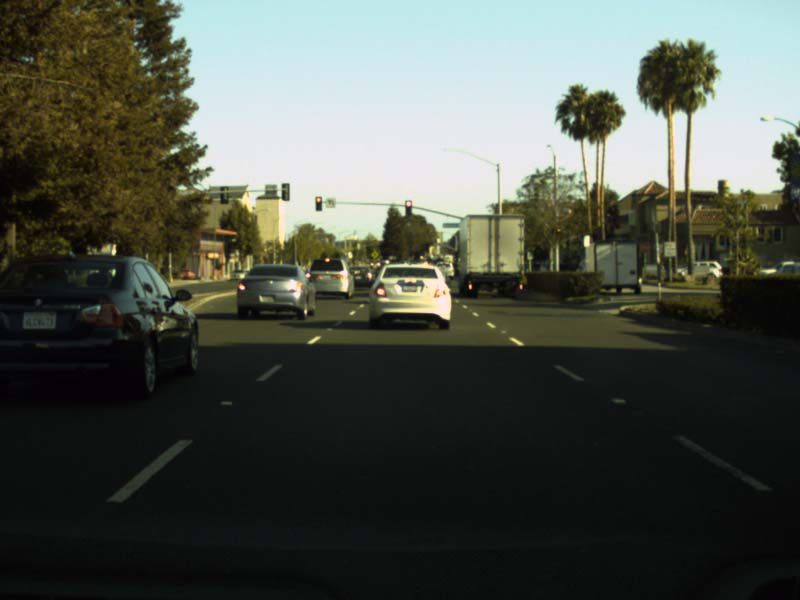Red: (314, 196, 321, 211), (404, 200, 411, 215)
